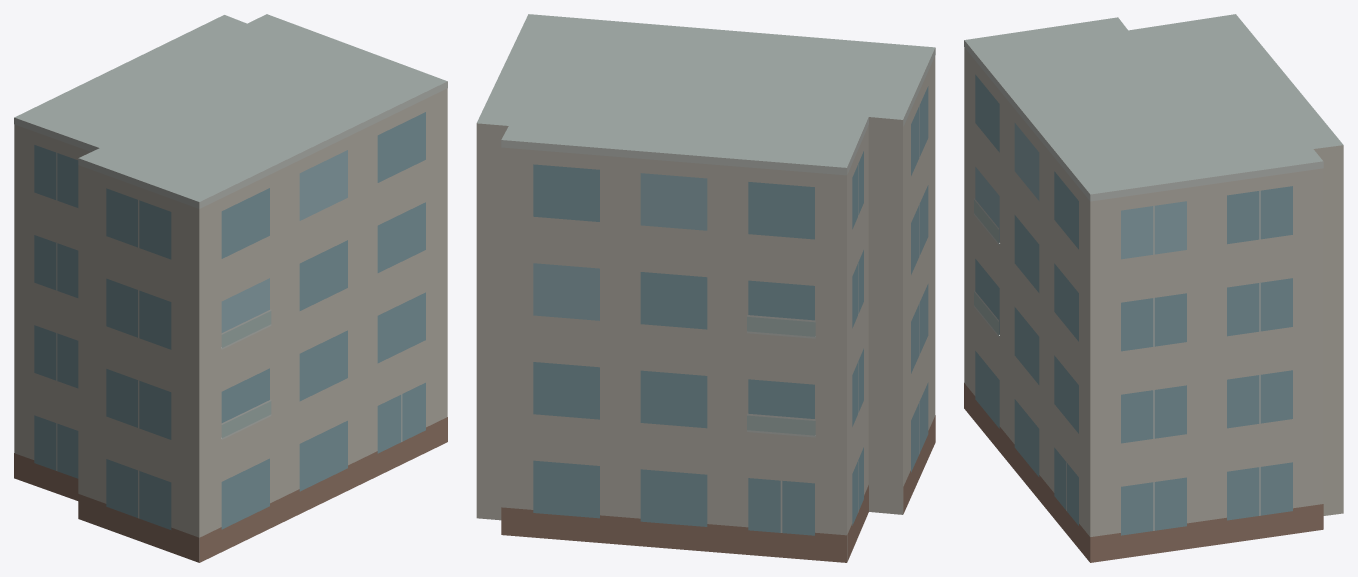
The model's file is survey-upis-32745667.glb.
The picture shows the model from 3 angles, left to right: view 1: azimuth 30°, elevation 25°; view 2: azimuth 150°, elevation 25°; view 3: azimuth 270°, elevation 25°; orthographic projection. The views are drawn at different scales.
Visible parts, largest first — view 1: survey-upis-32745667.tmp; view 2: survey-upis-32745667.tmp; view 3: survey-upis-32745667.tmp.
Boxes of the visible parts, <box> form: survey-upis-32745667.tmp: <box>14,14,447,562</box>; survey-upis-32745667.tmp: <box>476,14,935,562</box>; survey-upis-32745667.tmp: <box>964,14,1343,562</box>.
Bounding box in the file's own units: 13.46 × 12.8 × 11.96.
